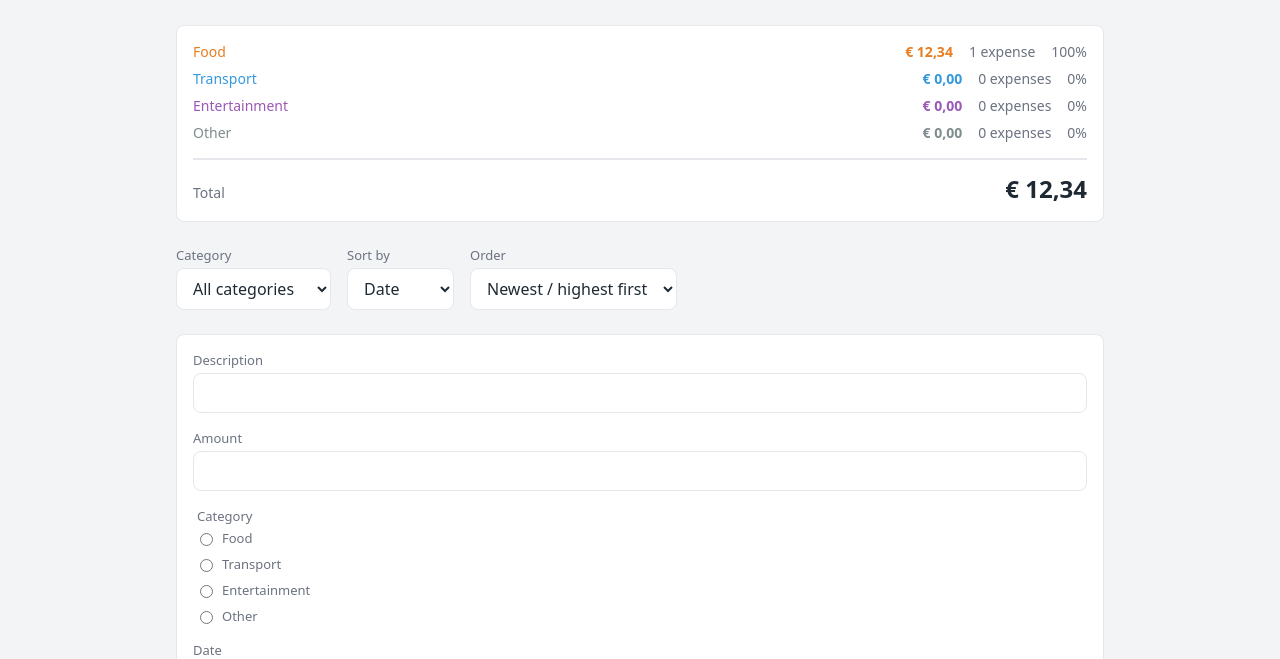
Test case: App › shows no-results with a clear-filters action when filters hide everything
This screenshot has width=1280, height=659.
Select "Transport" in the dropdown with id "category-filter": (254, 289) [176,268,331,310]
(page scrolled)
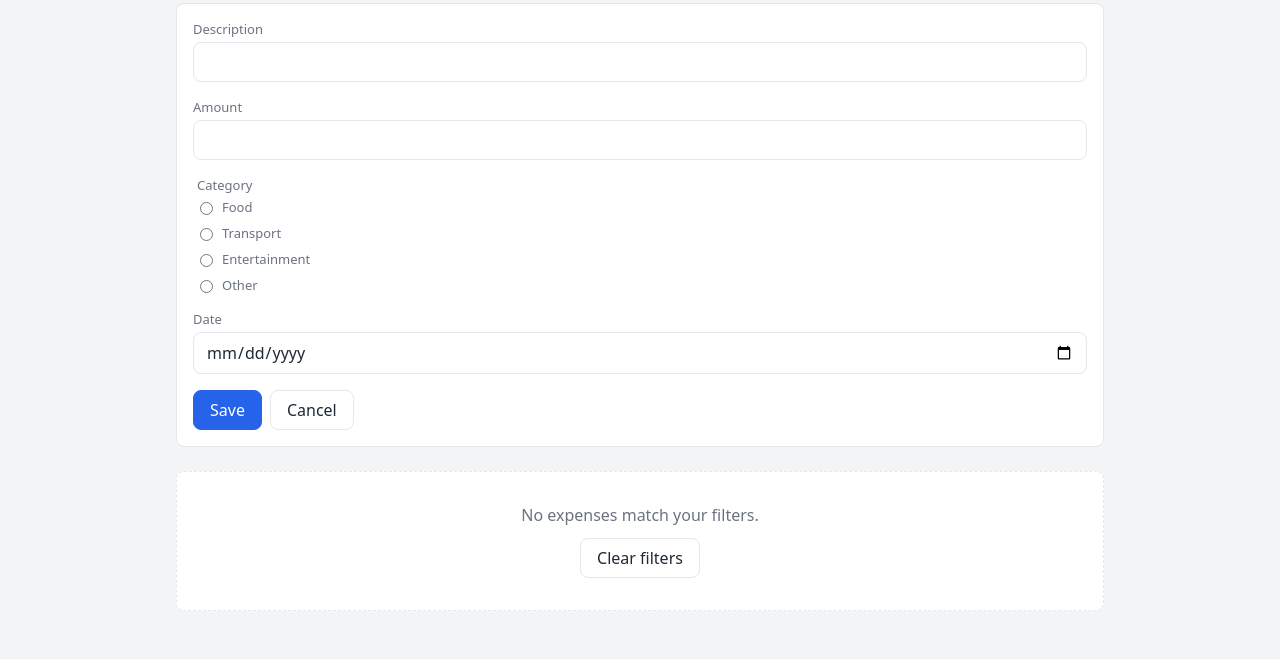
Expected: the element with class "no-results" shows "No expenses match your filters", [521,504,759,526]
Click the button "Clear filters": click(640, 558) [580,538,700,578]
(page scrolled)
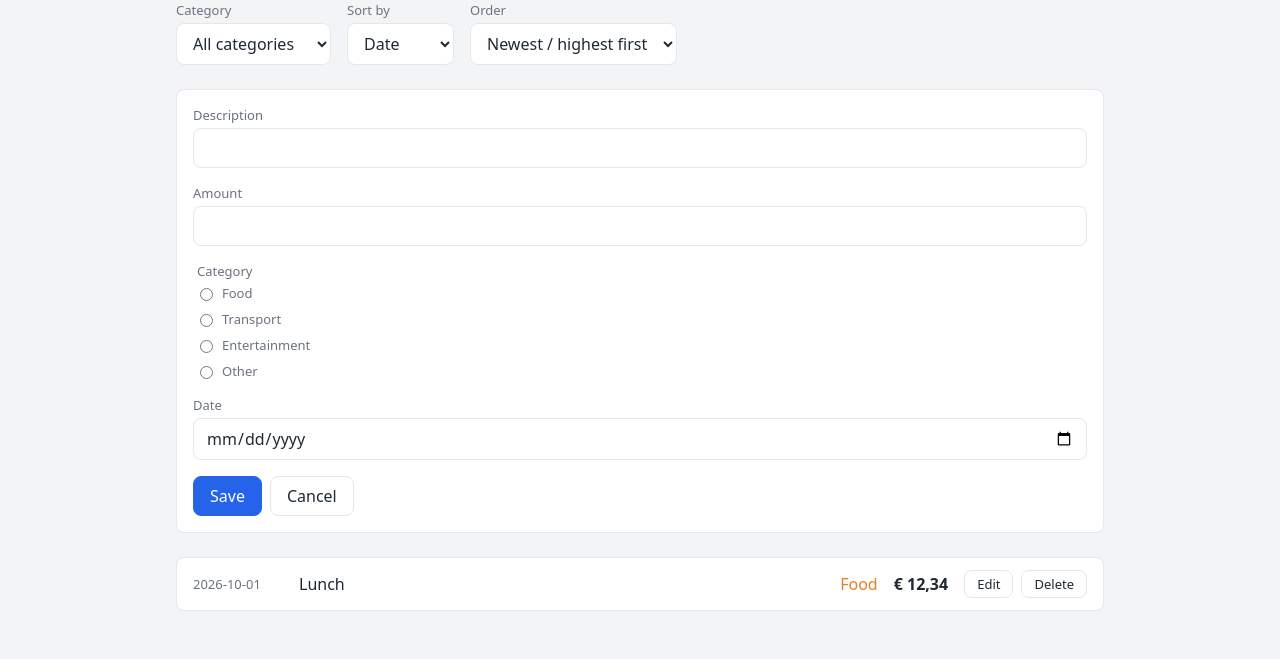
Expected: the number of list items with class "expense-item" is 1, [176,557,1104,611]
